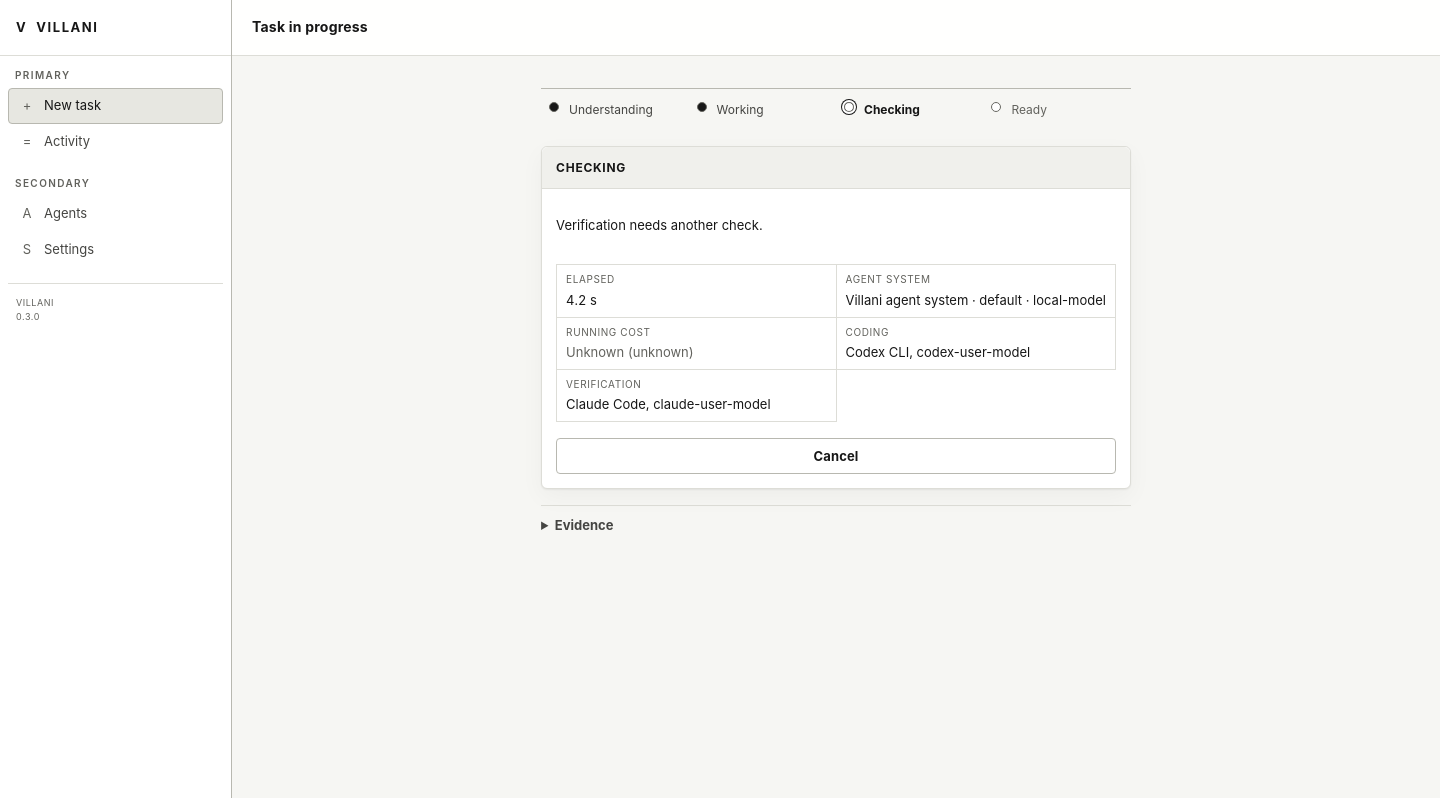
Console run workflow › reconnects to a server-side run after refresh without resubmitting
The width and height of the screenshot is (1440, 798).
Expected: the list item "Understanding" is shown, [541, 88, 689, 130]
Expected: the list item "Working" is shown, [688, 88, 836, 130]
Step 1. Click the button "Cancel" → (836, 456), box [556, 438, 1116, 474]
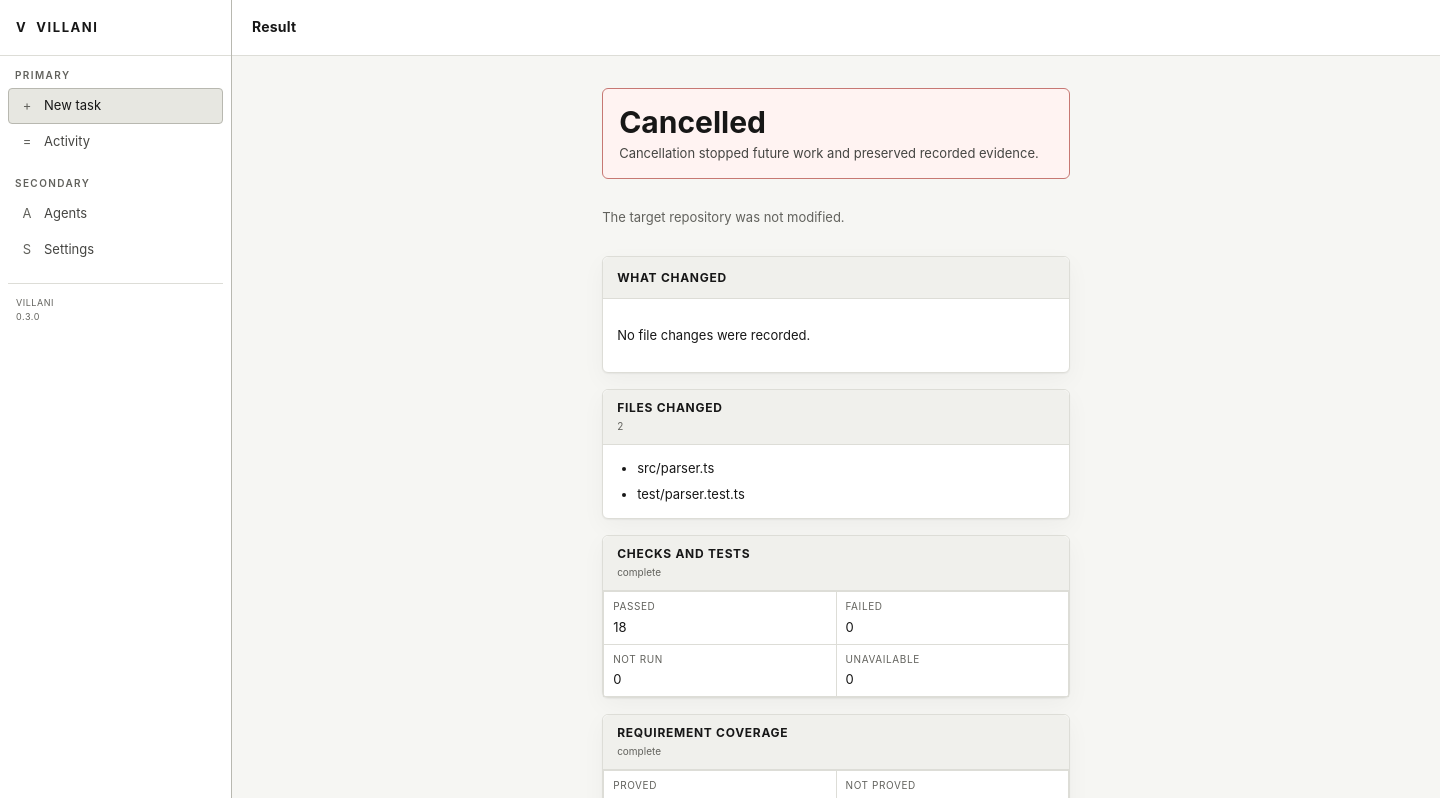
Result: the text "Cancelled" is shown at [619, 104, 766, 140]
Result: the text "The target repository was not modified." is shown at [602, 209, 845, 225]
